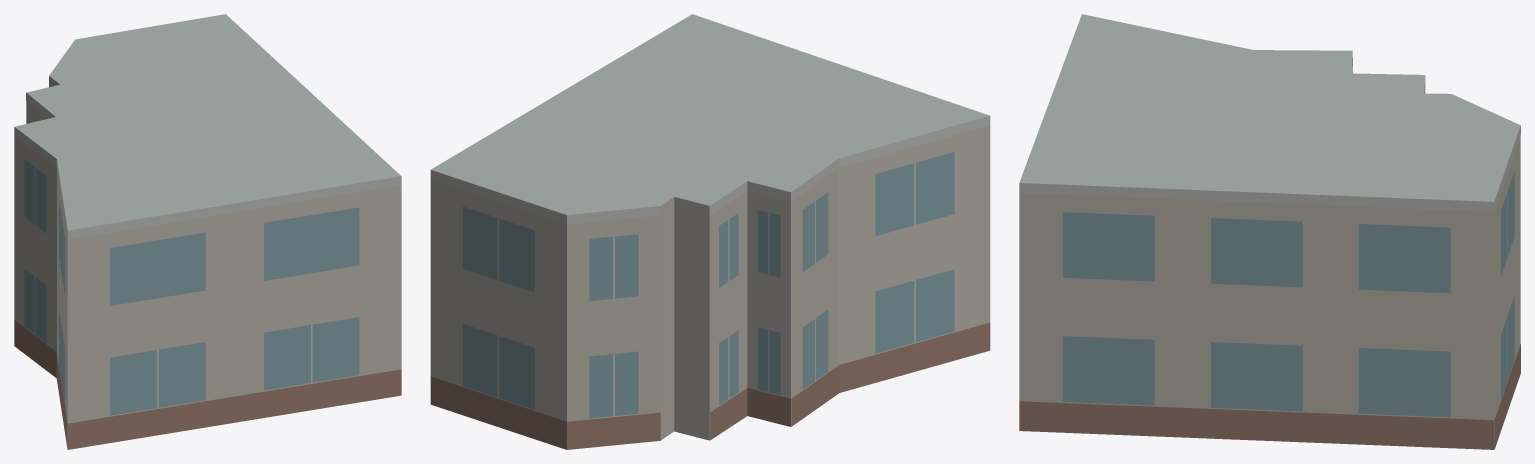
Rendered from survey-upis-32805431.glb.
The picture shows the model from 3 angles, left to right: view 1: azimuth 30°, elevation 25°; view 2: azimuth 150°, elevation 25°; view 3: azimuth 270°, elevation 25°; orthographic projection. The views are drawn at different scales.
Parts seen in each view (by area): view 1: survey-upis-32805431.tmp; view 2: survey-upis-32805431.tmp; view 3: survey-upis-32805431.tmp.
Part boxes in pixels (x1,y1,x2,y2): survey-upis-32805431.tmp: (14, 14, 401, 449); survey-upis-32805431.tmp: (430, 14, 990, 449); survey-upis-32805431.tmp: (1019, 14, 1520, 449).
Bounding box in the file's own units: 9.92 × 6.1 × 11.19.
